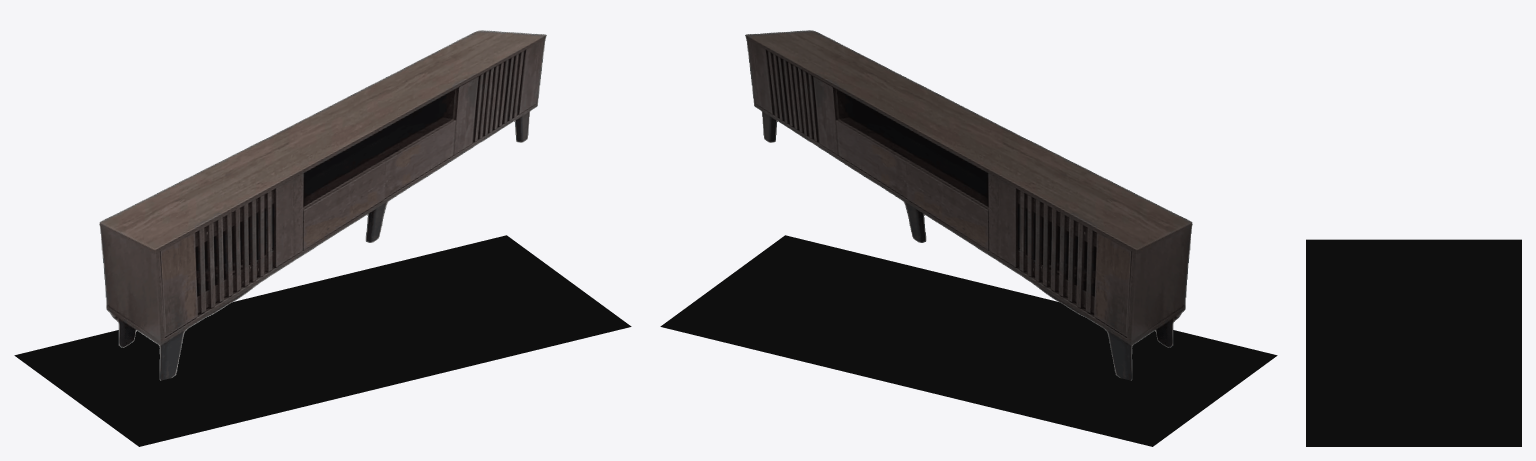
File: arm-b90ecb49d7.glb
3 views of the same model, side by side, from view 1: azimuth 30°, elevation 25°; view 2: azimuth 150°, elevation 25°; view 3: azimuth 270°, elevation 25° (orthographic). The views are drawn at different scales.
Size of the model in its own units: 1.27 by 0.675 by 0.56.
2 materials, 2 textured.
